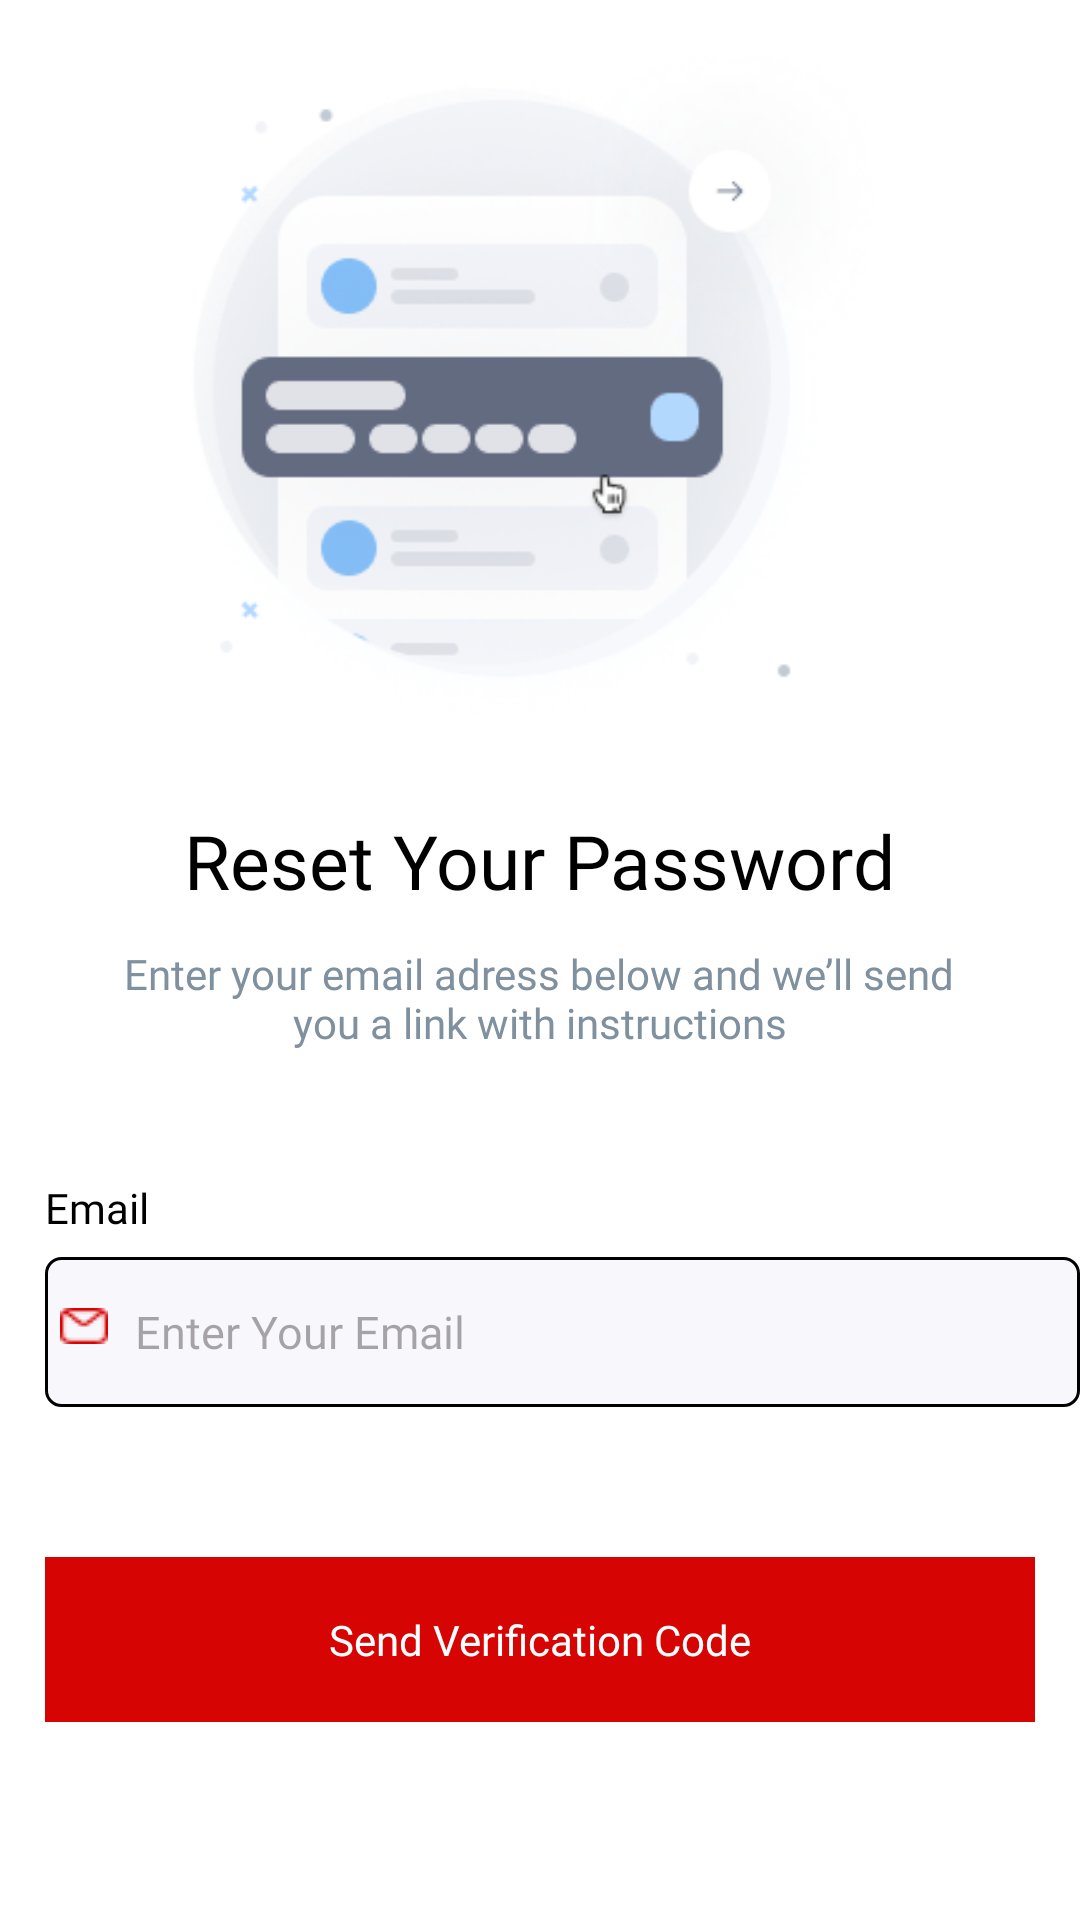

Icon bounding boxes for this 1080 × 1920 phone screenshot, format (x1, y1, x2, y2):
surat: (60, 1308, 108, 1344)
